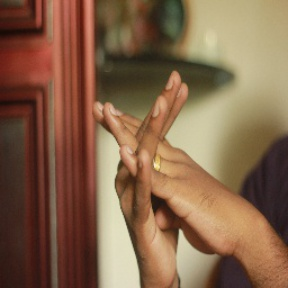W: (82, 67, 217, 251)
